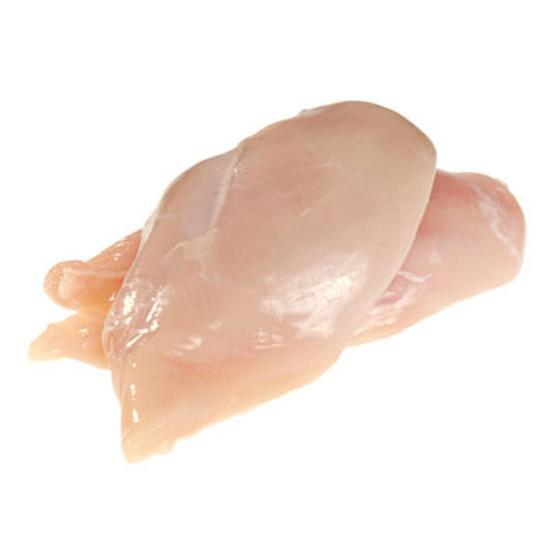chicken_fillet: (99, 102, 441, 477)
